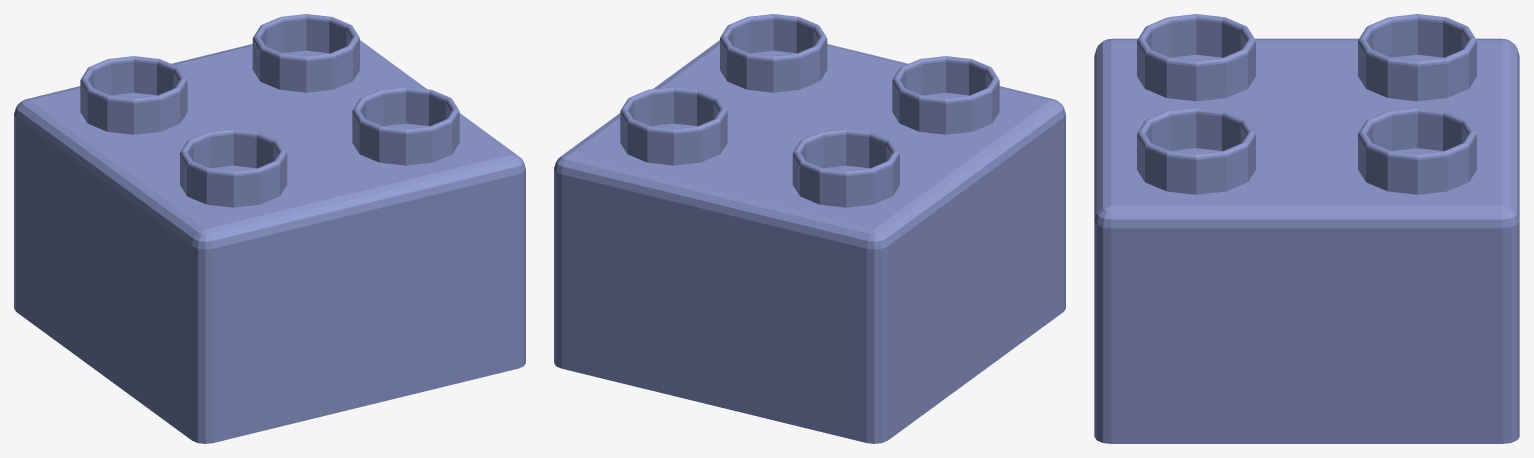
3 renders of one model, left to right at view 1: azimuth 30°, elevation 25°; view 2: azimuth 150°, elevation 25°; view 3: azimuth 270°, elevation 25°, orthographic. The views are drawn at different scales.
Visible parts, largest first — view 1: block; view 2: block; view 3: block.
Boxes of the visible parts, x1,y1,x2,y2 form: block: (14, 14, 525, 443); block: (554, 14, 1065, 443); block: (1094, 14, 1519, 443).
Bounding box in the file's own units: 250 × 175 × 250.
